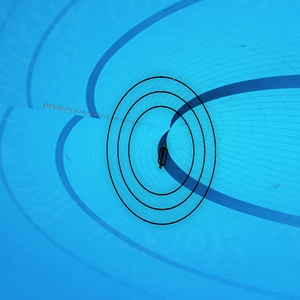circle: (100, 74, 221, 230)
submarine: (156, 143, 169, 165)
